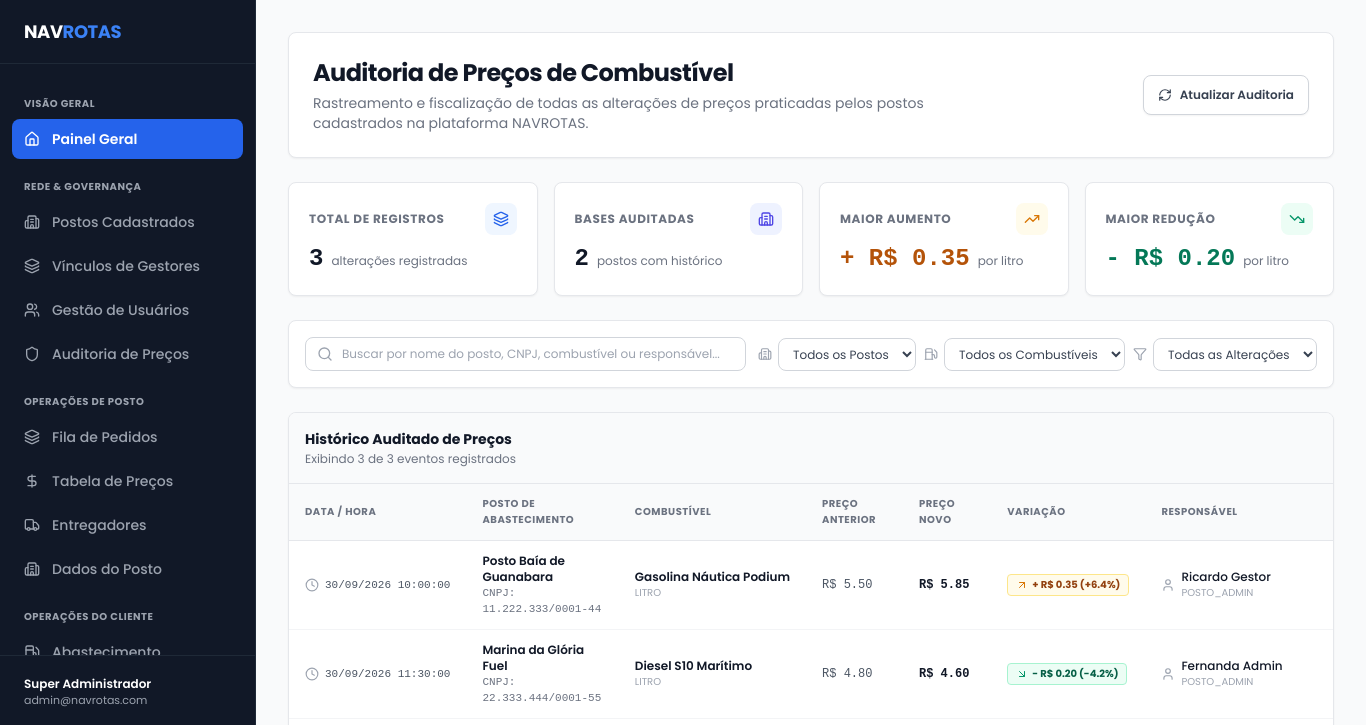
Scenario: AdminAuditoriaPage › filtra registros por tipo de evento (AUMENTO)
This screenshot has width=1366, height=725.
Seleciona filtro AUMENTO
Select "Aumentos de Preço" in the 3rd dropdown at (1235,354), box [1153, 338, 1317, 370]
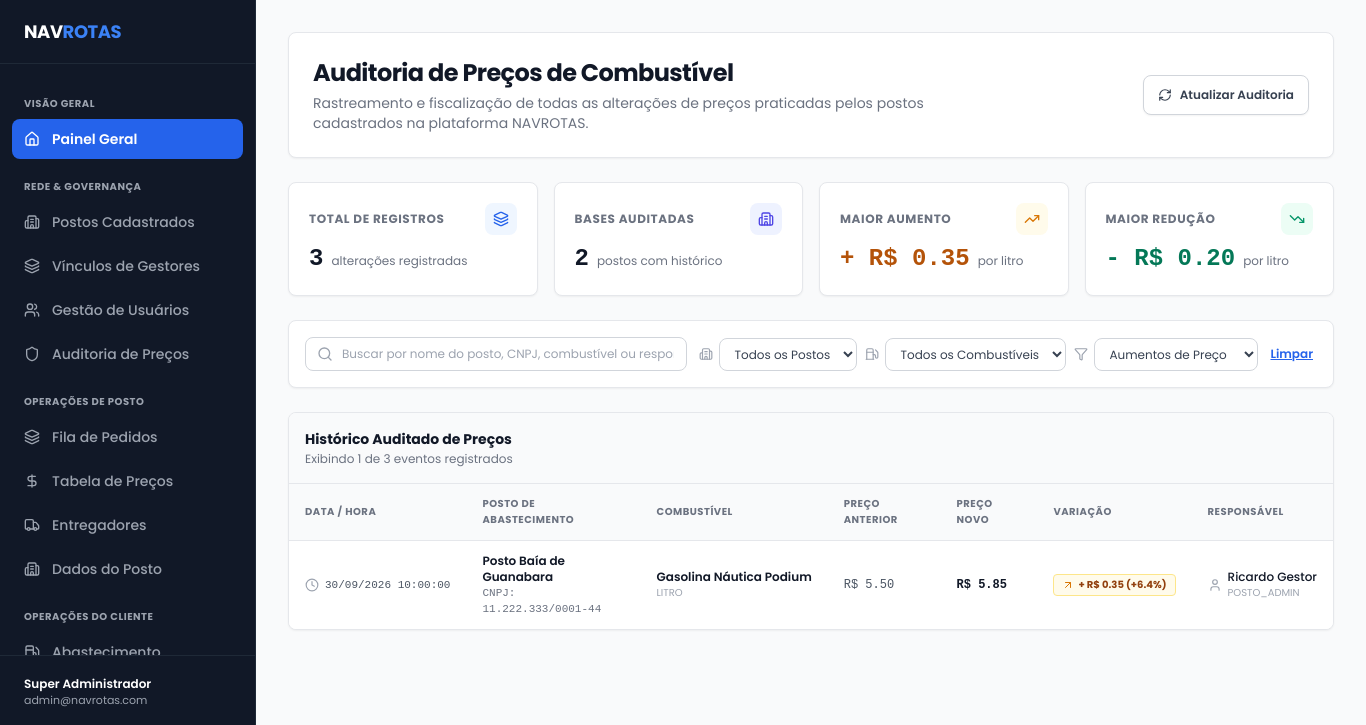
Expected: the text "Gasolina Náutica Podium" is shown, [656, 568, 812, 585]
Now the text "Diesel S10 Marítimo" is gone
